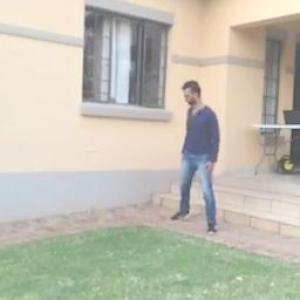follow: (172, 74, 219, 238)
